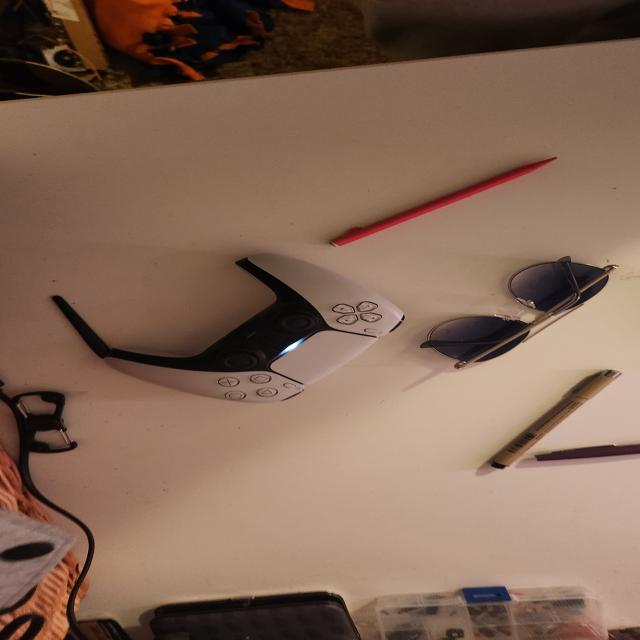Controller: (107, 259, 339, 373)
Glasses: (418, 262, 612, 371)
Pen: (328, 159, 554, 246), (475, 370, 622, 475)
